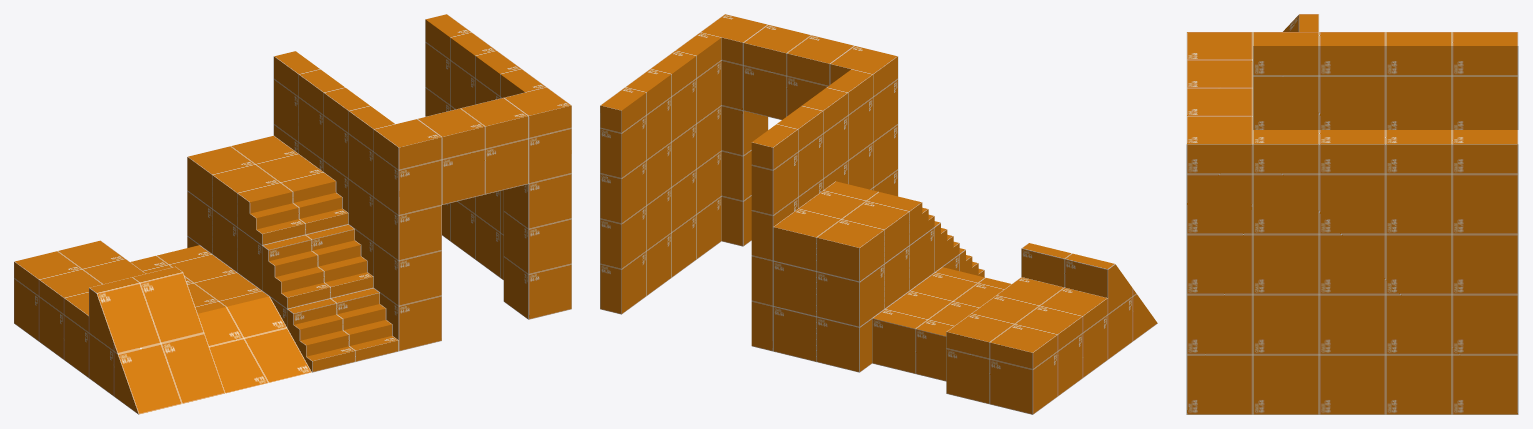
The model's file is ramps_steps.obj.
3 views of the same model, side by side, from view 1: azimuth 30°, elevation 25°; view 2: azimuth 150°, elevation 25°; view 3: azimuth 270°, elevation 25° (orthographic). The views are drawn at different scales.
Parts seen in each view (by area): view 1: Cube; view 2: Cube; view 3: Cube.
Part boxes in pixels (x1,y1,x2,y2): Cube: [14, 14, 571, 414]; Cube: [600, 14, 1157, 414]; Cube: [1186, 14, 1518, 414].
Size of the model in its own units: 10 by 4.5 by 5.
